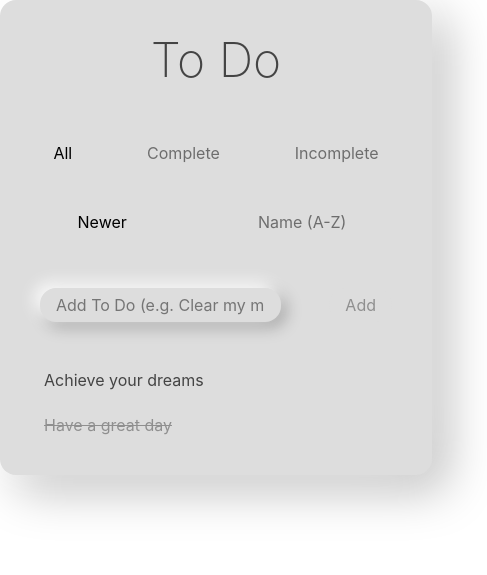
Test case: adds a todo when "Add" is clicked
This screenshot has width=487, height=575.
In the field named "To Do Name Input": [161, 305] box [40,288,281,322], type "Test To Do addition"
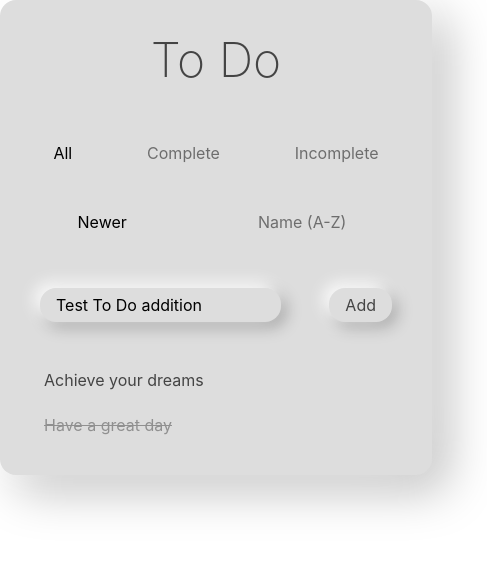
Click the button named "Add a To Do": [361, 305] box [329,288,392,322]
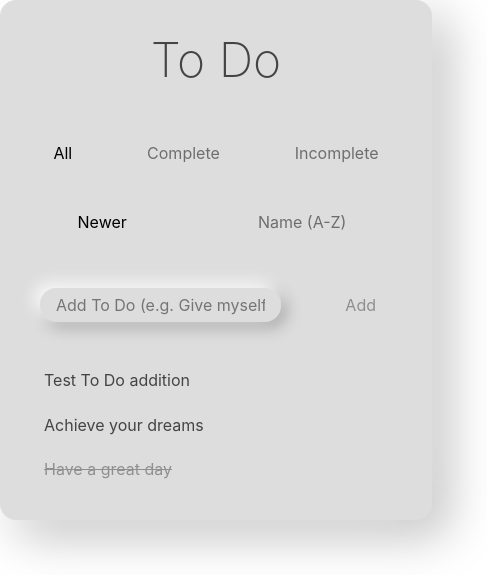
Expected: the number of elements titled "To Do" is 3, [31,370,190,418]; [31,415,204,462]; [31,459,172,504]
